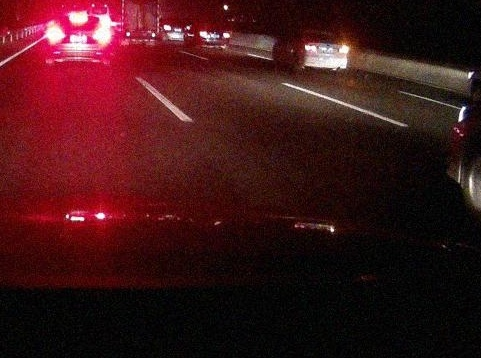L_light: (48, 31, 64, 39), (305, 45, 316, 52)
R_light: (93, 31, 110, 39), (338, 46, 348, 53)
T_light: (72, 17, 87, 21), (319, 33, 327, 36)
night-brake: (46, 13, 110, 66)
night-right: (304, 30, 348, 74)
